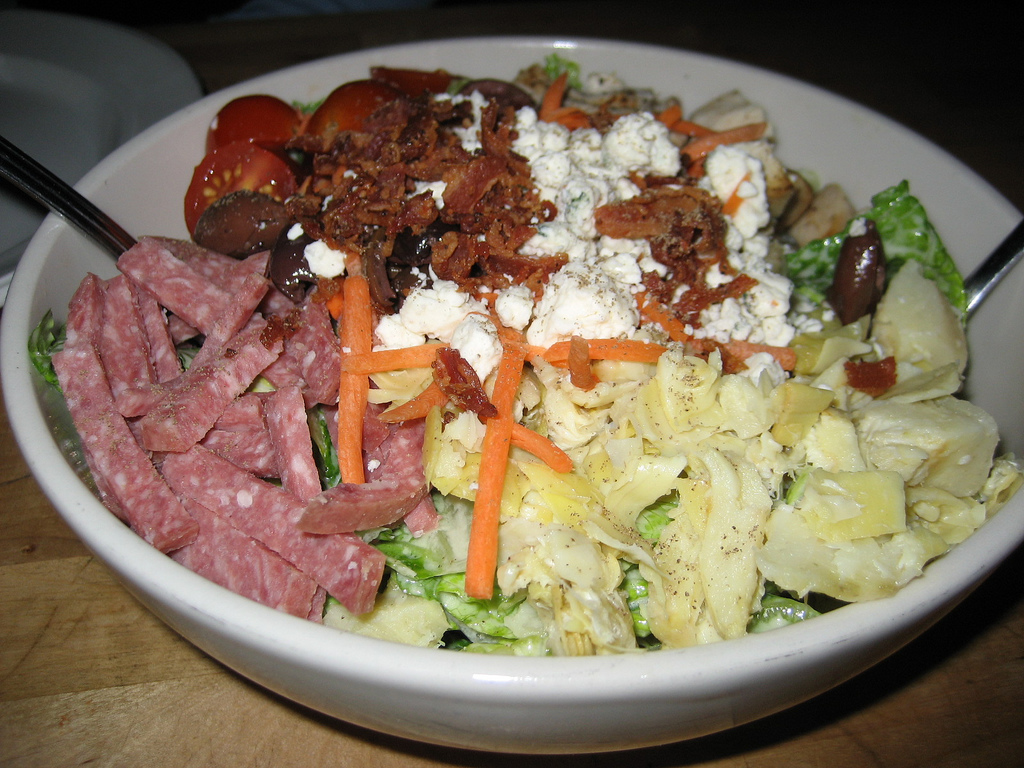chopped lettuce: (527, 389, 893, 586)
